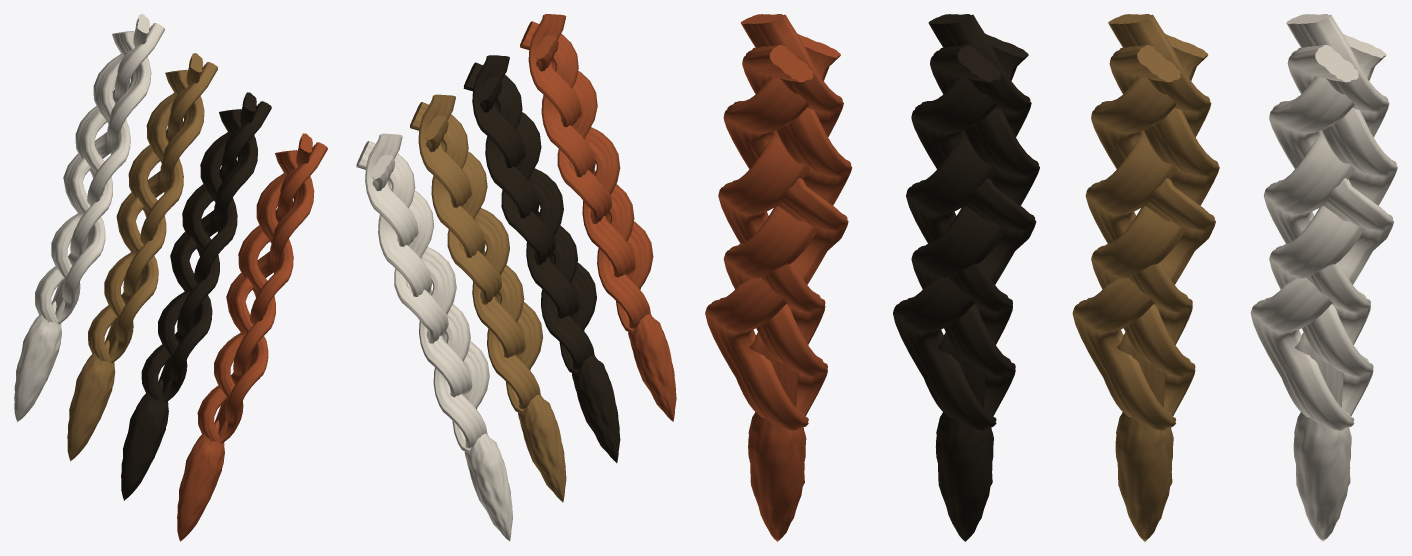
The model's file is braids.dae.
3 views of the same model, side by side, from view 1: azimuth 30°, elevation 25°; view 2: azimuth 150°, elevation 25°; view 3: azimuth 270°, elevation 25° (orthographic). The views are drawn at different scales.
Parts seen in each view (by area): view 1: braid_strand_1, braid_strand_8, braid_strand_3, braid_strand_11, braid_strand_7, braid_strand_4, braid_strand_10, braid_strand_2, braid_strand_6, braid_strand_9, braid_strand, braid_strand_5 (+4 smaller); view 2: braid_strand_10, braid_strand_2, braid_strand_4, braid_strand_7, braid_strand_5, braid_strand_6, braid_strand, braid_strand_9, braid_strand_11, braid_strand_1, braid_strand_3, braid_strand_8 (+4 smaller); view 3: braid_strand_1, braid_strand_3, braid_strand_11, braid_strand_8, braid_strand_10, braid_strand_7, braid_strand_2, braid_strand_4, braid_strand_6, braid_strand, braid_strand_9, braid_strand_5 (+4 smaller).
Part boxes in pixels (x1,y1,x2,y2): braid_strand_1: (57, 31, 151, 323); braid_strand_8: (164, 109, 257, 402); braid_strand_3: (110, 70, 204, 363); braid_strand_11: (220, 150, 314, 443); braid_strand_7: (141, 101, 271, 402); braid_strand_4: (88, 62, 217, 363); braid_strand_10: (197, 142, 327, 443); braid_strand_2: (35, 23, 164, 324); braid_strand_6: (158, 92, 256, 397); braid_strand_9: (214, 133, 312, 438); braid_strand: (51, 14, 149, 319); braid_strand_5: (104, 53, 203, 358); braid_strand_10: (520, 21, 650, 328); braid_strand_2: (356, 141, 487, 448); braid_strand_4: (410, 102, 540, 409); braid_strand_7: (463, 62, 594, 369); braid_strand_5: (418, 94, 525, 361); braid_strand_6: (472, 55, 579, 322); braid_strand: (365, 133, 472, 400); braid_strand_9: (528, 14, 635, 280); braid_strand_11: (534, 35, 653, 333); braid_strand_1: (370, 154, 489, 453); braid_strand_3: (424, 115, 543, 414); braid_strand_8: (478, 76, 596, 374); braid_strand_1: (1250, 33, 1393, 430); braid_strand_3: (1072, 33, 1215, 430); braid_strand_11: (705, 33, 848, 430); braid_strand_8: (893, 33, 1036, 430); braid_strand_10: (723, 45, 852, 416); braid_strand_7: (911, 45, 1039, 416); braid_strand_2: (1269, 45, 1397, 416); braid_strand_4: (1091, 45, 1219, 416); braid_strand_6: (906, 14, 1031, 407); braid_strand: (1264, 14, 1389, 407); braid_strand_9: (718, 14, 843, 407); braid_strand_5: (1085, 14, 1211, 407).
Size of the model in its own units: 11.17 by 26.99 by 27.06.
